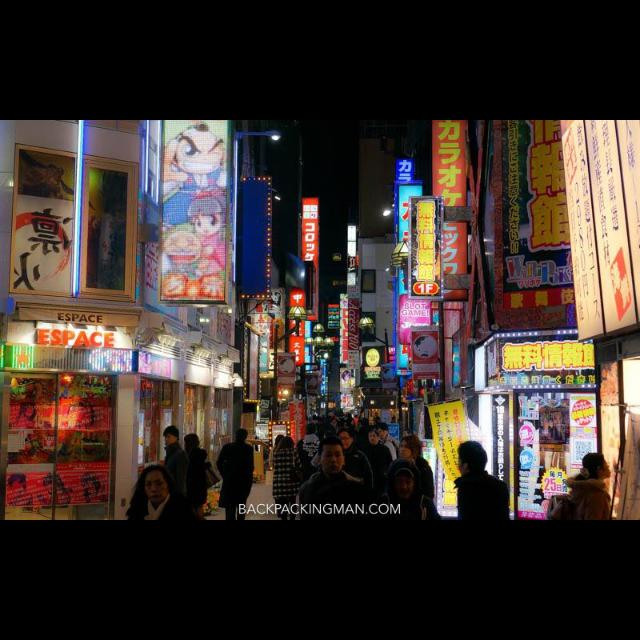head: (316, 438, 348, 476), (457, 442, 487, 476), (145, 468, 173, 504), (583, 452, 613, 480), (399, 434, 423, 462), (396, 468, 416, 500), (163, 425, 180, 447), (338, 432, 356, 451), (368, 429, 382, 447), (186, 434, 200, 450), (235, 429, 249, 443), (378, 423, 390, 439), (281, 438, 293, 450), (306, 423, 318, 435), (276, 435, 286, 447)
person: (296, 421, 330, 507), (267, 433, 293, 503)
